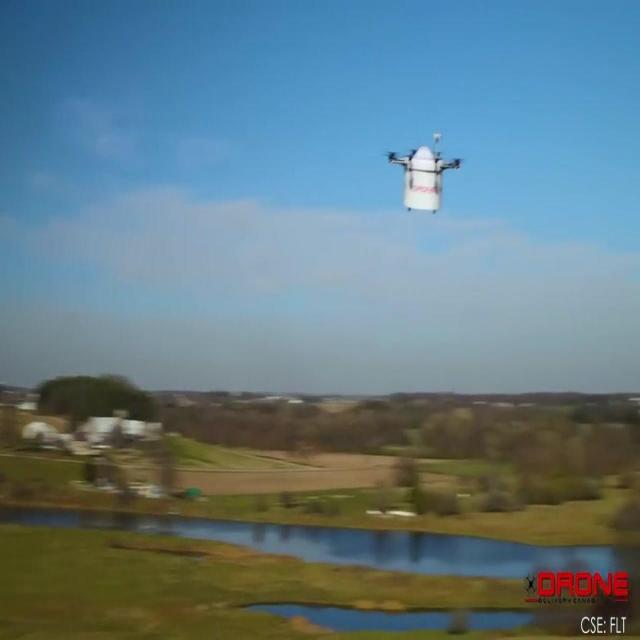UAV: (382, 132, 464, 214)
